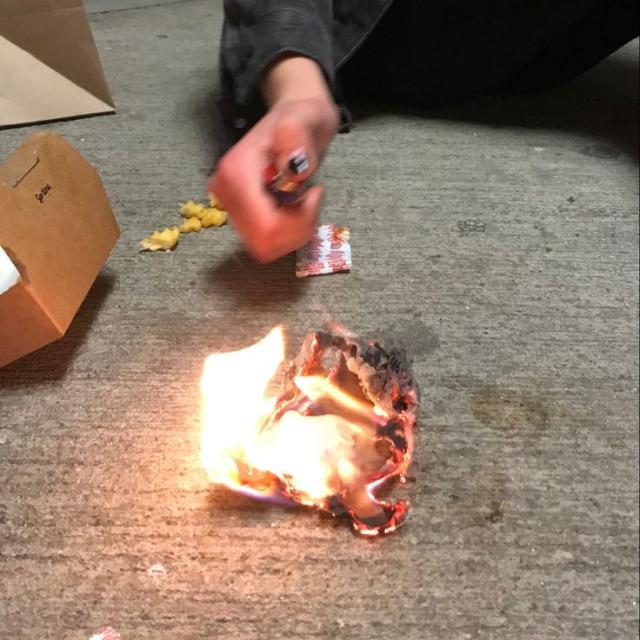fire: (203, 322, 397, 516)
